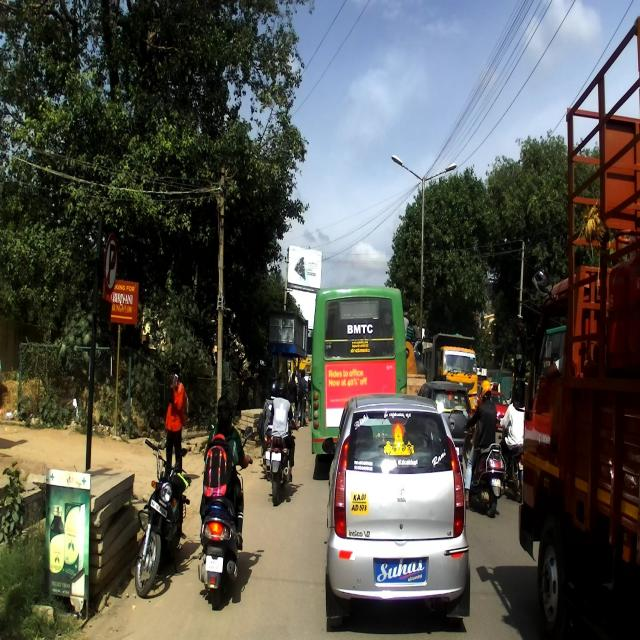bus: (307, 287, 407, 453)
car: (322, 391, 472, 631)
motorcycle: (132, 446, 192, 592), (268, 401, 300, 503)
scooter: (198, 425, 254, 606), (462, 417, 508, 521)
truck: (508, 16, 639, 636)
